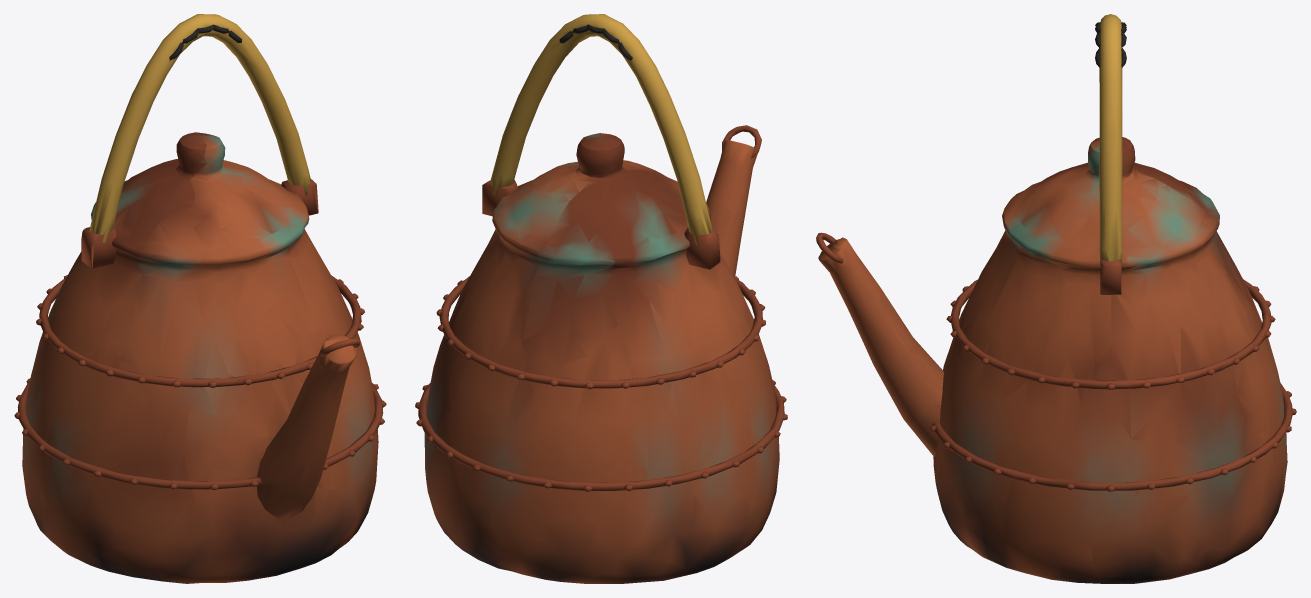
File: ember_kettle_lod1.glb
The picture shows the model from 3 angles, left to right: view 1: azimuth 30°, elevation 25°; view 2: azimuth 150°, elevation 25°; view 3: azimuth 270°, elevation 25°; orthographic projection.
Parts seen in each view (by area): view 1: ember_kettle.001; view 2: ember_kettle.001; view 3: ember_kettle.001.
Part boxes in pixels (x1=…): ember_kettle.001: x1=14, y1=14, x2=386, y2=583; ember_kettle.001: x1=415, y1=14, x2=787, y2=583; ember_kettle.001: x1=816, y1=14, x2=1296, y2=583.
Size of the model in its own units: 27.28 by 40.84 by 35.26.
